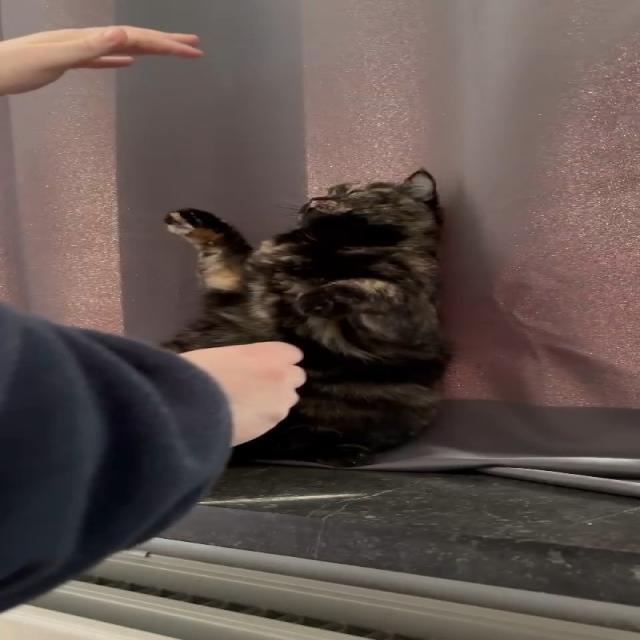authorized: (158, 167, 454, 468)
